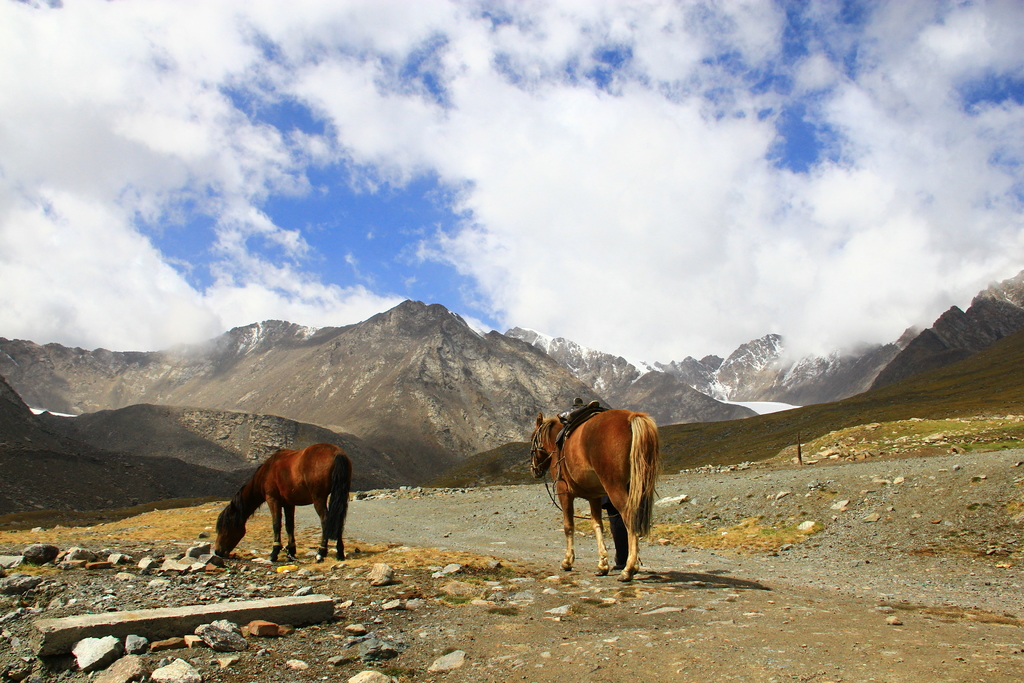horse: (212, 438, 360, 570)
